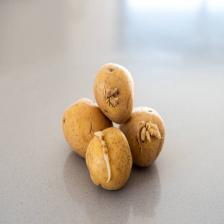Sprouted potato: (59, 93, 116, 157), (118, 105, 169, 173), (82, 124, 134, 190), (92, 59, 134, 125)
